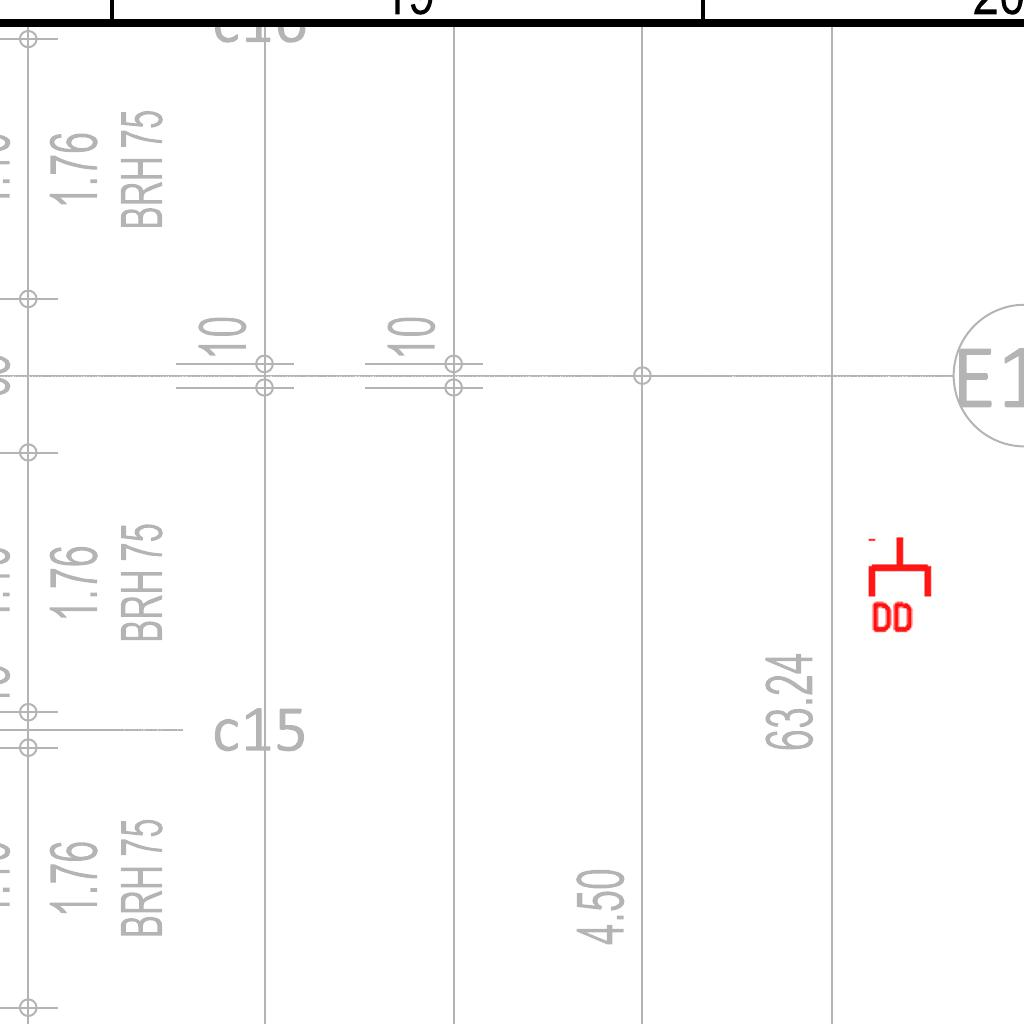Datenanschluss_zweifach: (867, 534, 936, 637)
